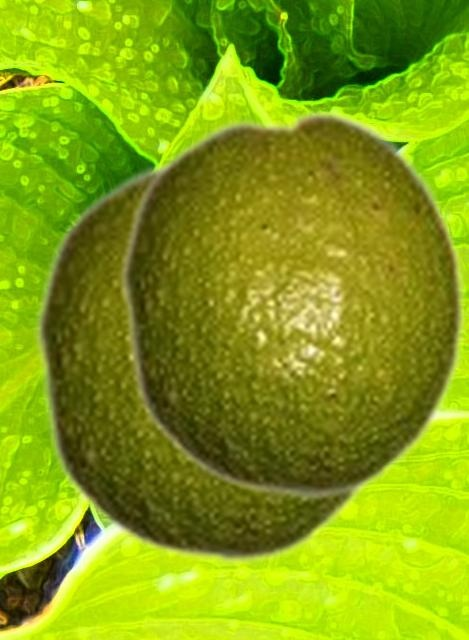avocado: (33, 154, 374, 567), (118, 107, 467, 502)
